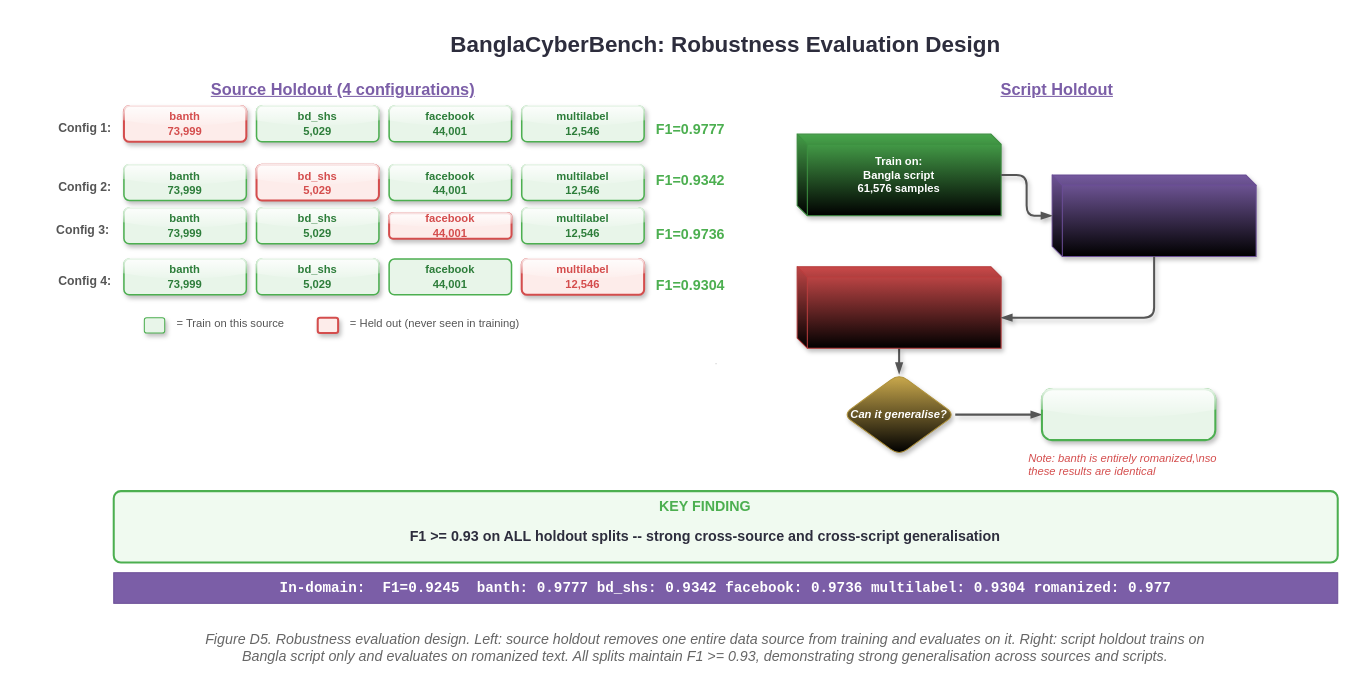
The diagram is 1361 pixels wide and 682 high, and some of its shapes have lost their labels. The shapes that lost their labels are listed below. From the top down, each one's centre as x and y in pixels, then its label:
At (x=1154, y=217): "Trained Ensemble Model".
At (x=899, y=308): "Evaluate on: Romanized script 73,999 samples".
At (x=1129, y=416): "F1 = 0.9777 MCC = 0.9554 | AUROC = 0.9959".
